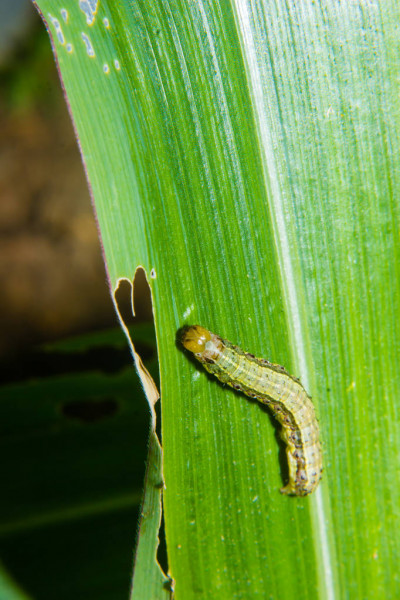Armyworm: (175, 302, 348, 527)
